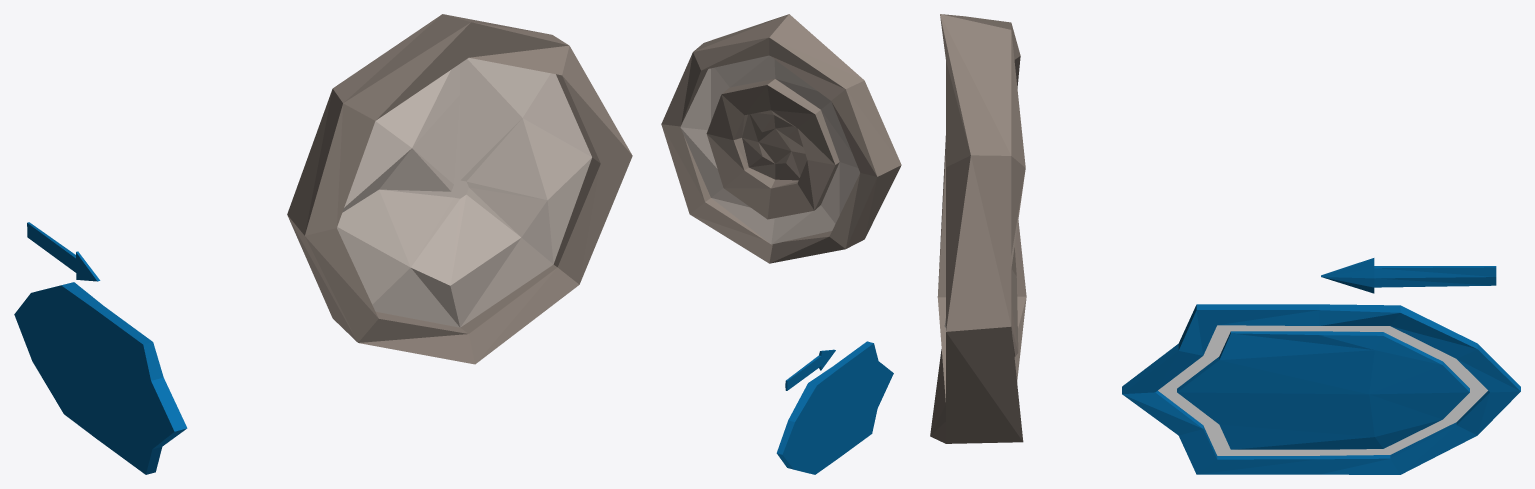
Rendered from item_fall_defense.FBX.
The picture shows the model from 3 angles, left to right: view 1: azimuth 30°, elevation 25°; view 2: azimuth 150°, elevation 25°; view 3: azimuth 270°, elevation 25°; orthographic projection. The views are drawn at different scales.
Visible parts, largest first — view 1: coin, defense; view 2: coin, defense; view 3: defense, coin.
Part boxes in pixels (x1=…): coin: x1=287, y1=14, x2=632, y2=364; defense: x1=14, y1=222, x2=187, y2=474; coin: x1=661, y1=14, x2=901, y2=263; defense: x1=776, y1=341, x2=893, y2=474; defense: x1=1122, y1=258, x2=1520, y2=474; coin: x1=930, y1=14, x2=1026, y2=443.
Bounding box in the file's own units: 36.86 × 42.94 × 38.98.
1 material, 1 textured.
